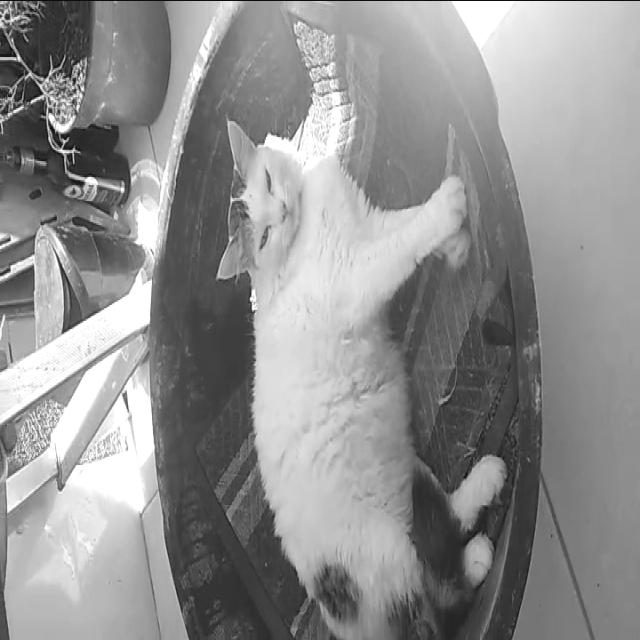Simba: (219, 88, 503, 620)
